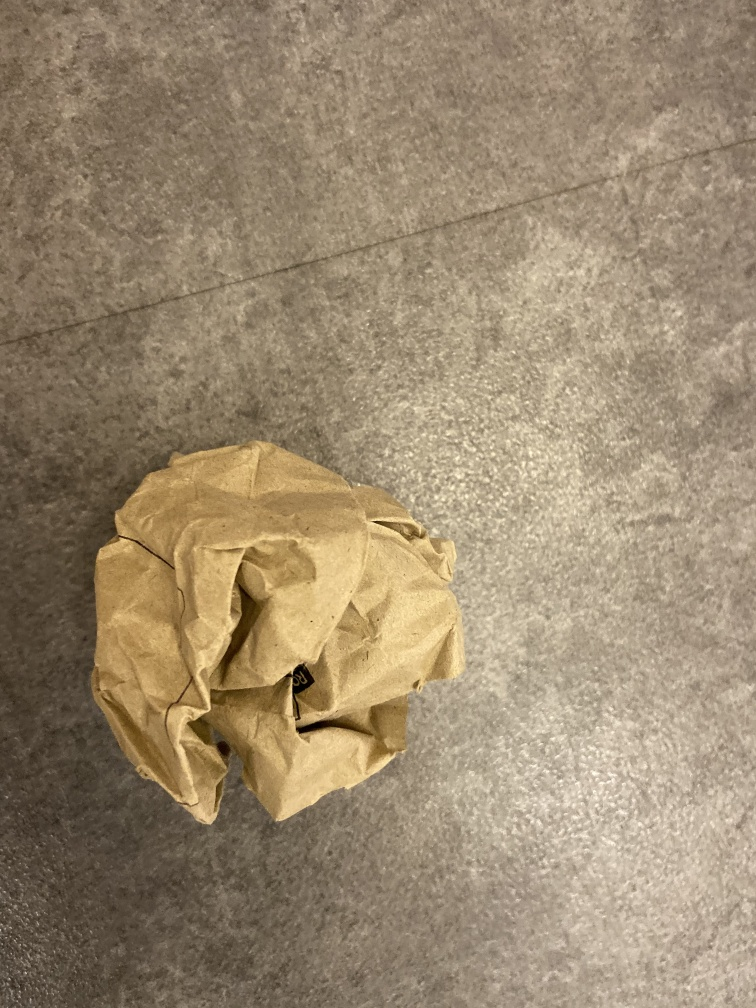paper_brown: (88, 434, 470, 828)
